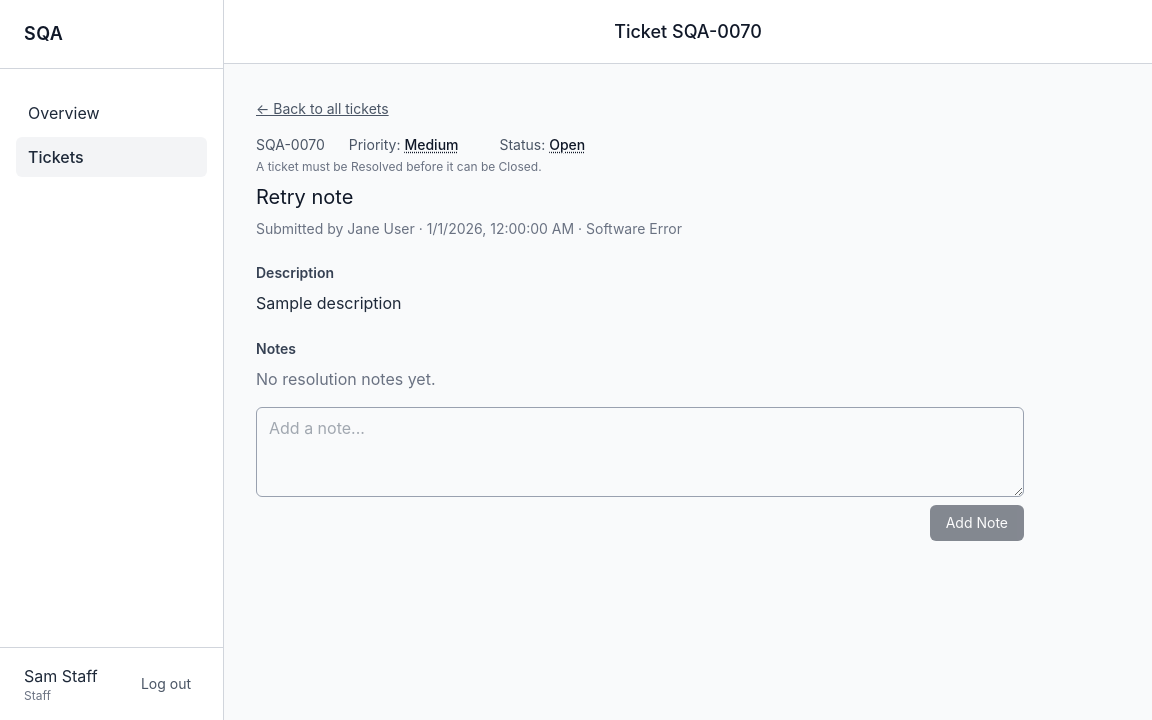
Test case: TicketDetail page › failed updates (error handling) › TC-ERR-07: after a failed note, a successful retry clears the error and the text
Check: the heading "Retry note" is shown, box left=256, top=185, right=353, bottom=209
Type "Replaced cable" into the text box with placeholder "Add a note...". click: (640,452)
box: left=256, top=407, right=1024, bottom=497
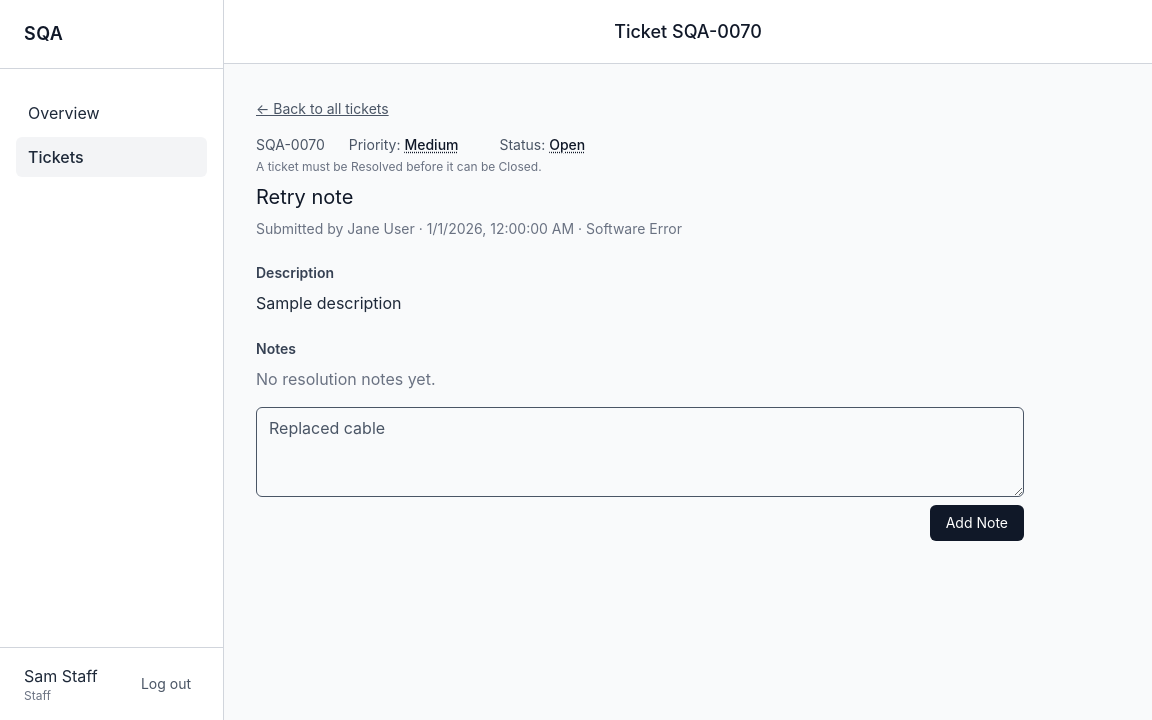
Click the button "Add Note". click: (977,523)
box: left=930, top=505, right=1024, bottom=541
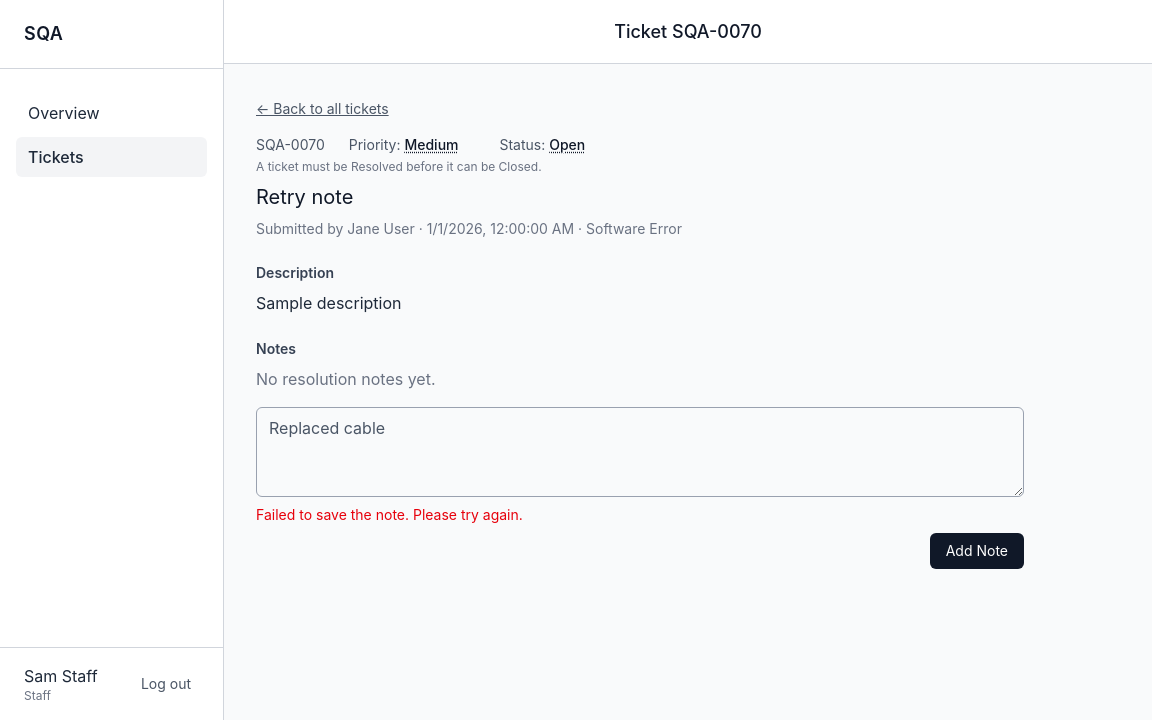
Check: the message "Failed to save the note. Please try again." is shown, box left=256, top=506, right=523, bottom=523
Click the button "Add Note". click: (977,551)
box: left=930, top=533, right=1024, bottom=569
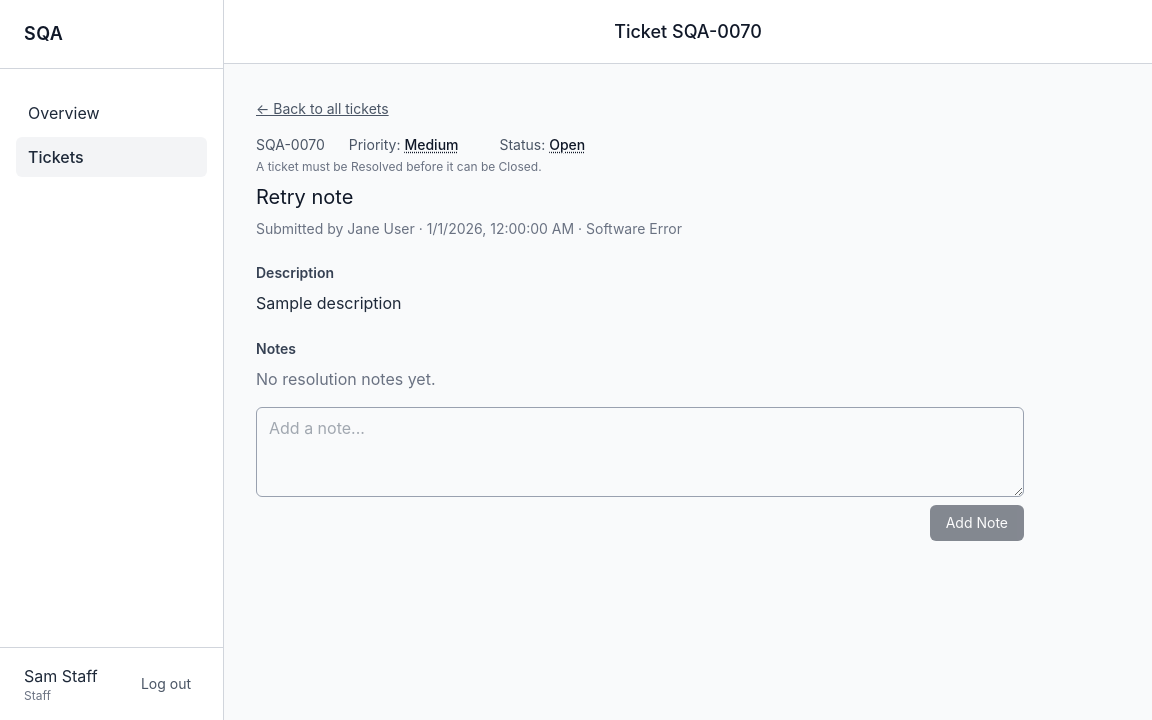
Check: the text box with placeholder "Add a note..." is empty, box left=256, top=407, right=1024, bottom=497
Check: the message "Failed to save the note. Please try again." is gone
